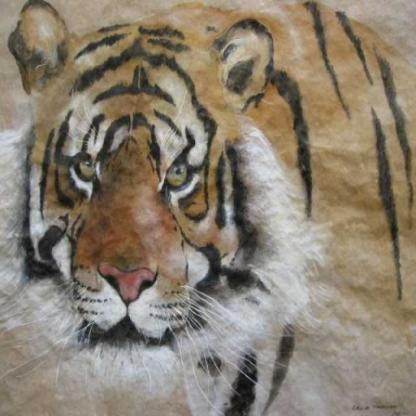Tiger: (15, 0, 416, 402)
